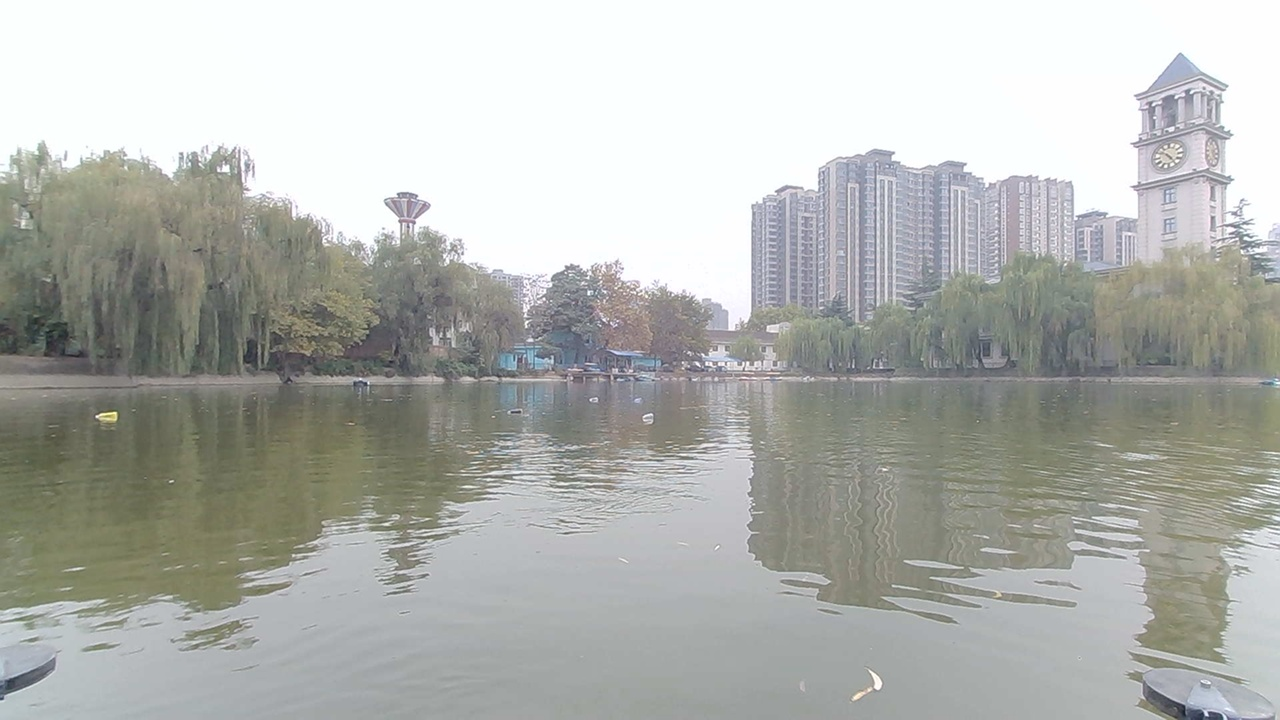bottle: (88, 406, 130, 430), (497, 399, 527, 421), (636, 408, 666, 429), (625, 391, 658, 408), (579, 393, 601, 412)
